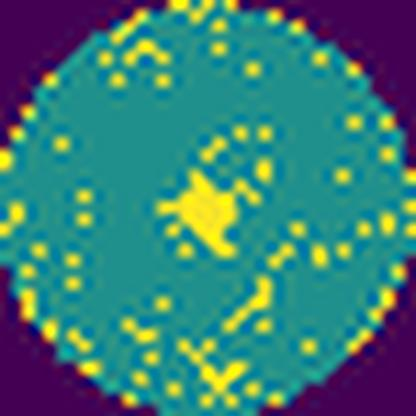Center: (168, 181, 240, 252)
